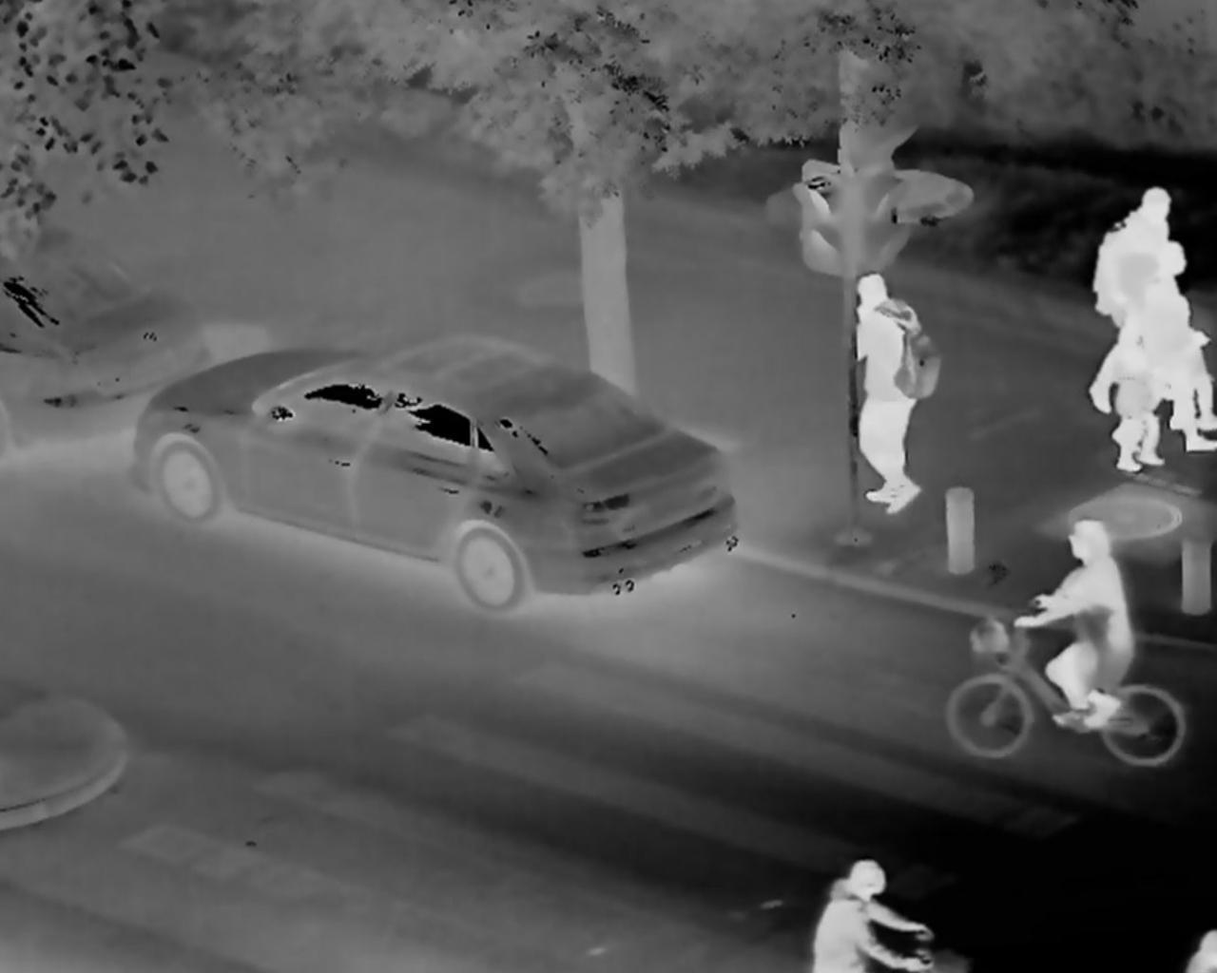person: (1015, 512, 1162, 740), (1095, 182, 1182, 418), (850, 271, 933, 517), (1142, 247, 1217, 458), (805, 852, 930, 973), (1111, 361, 1161, 476)
